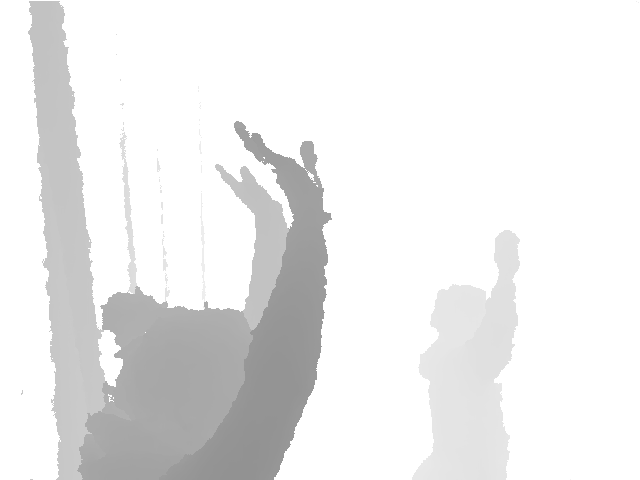hand: (235, 119, 324, 213), (213, 162, 285, 215), (493, 230, 520, 280)
head: (101, 286, 264, 417), (430, 285, 488, 338)
person: (80, 117, 330, 480), (412, 230, 521, 480)
